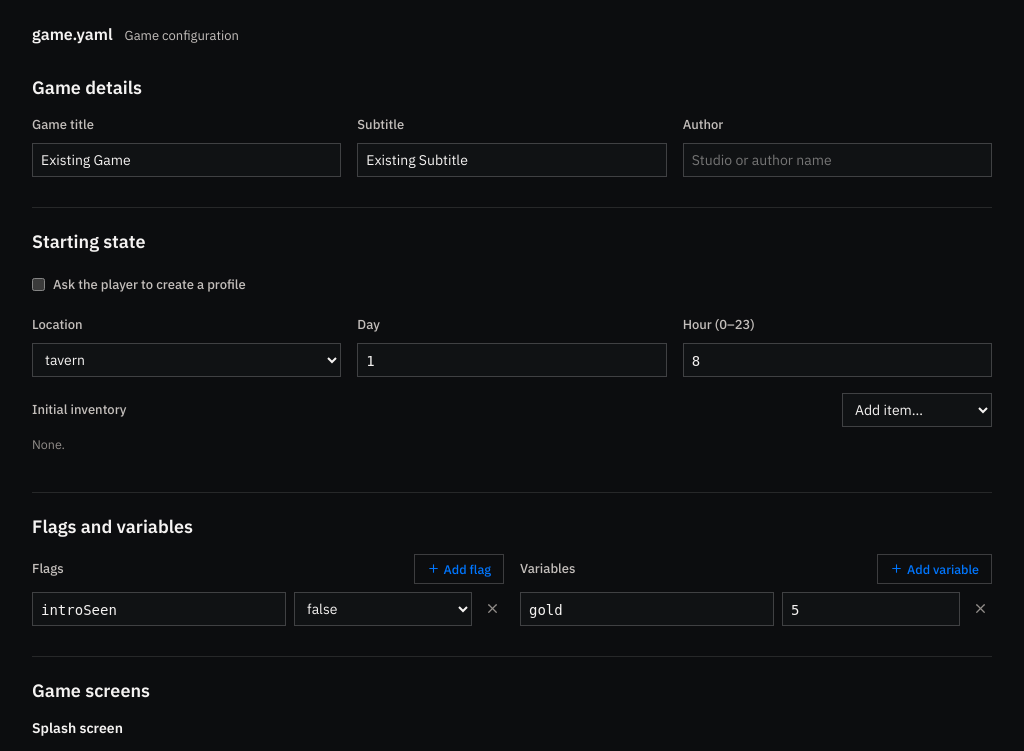
Test: GameConfigForm author journeys › shows an external-deletion warning and does not keep autosaving
Select "market" in the dropdown labelled "Location". click: {"x": 187, "y": 360}
box: [32,343,341,377]
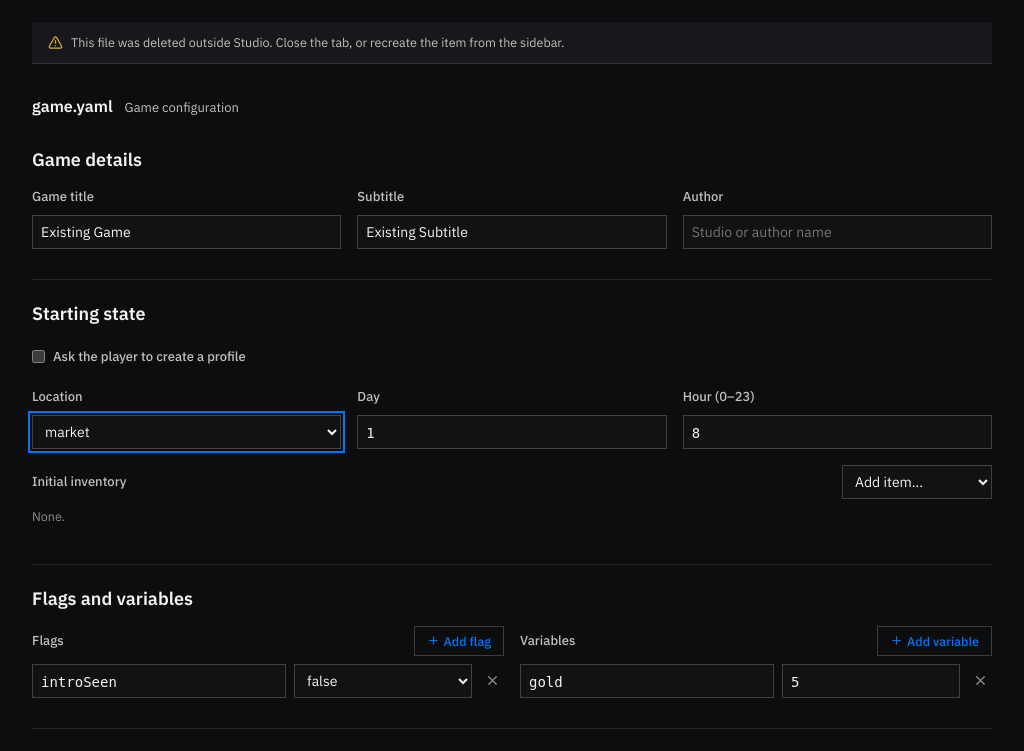
Expected: the text "deleted outside Studio" is shown, [71,34,564,50]
